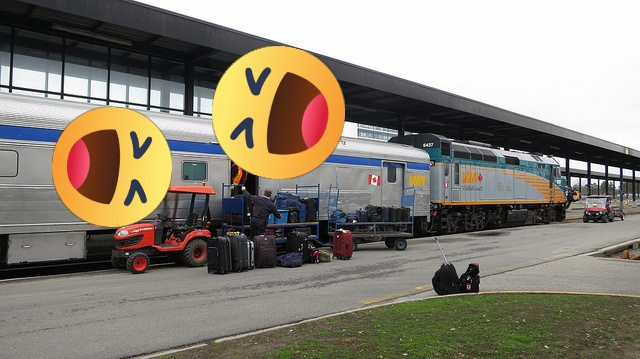haha: (212, 46, 345, 179), (52, 107, 172, 227)
